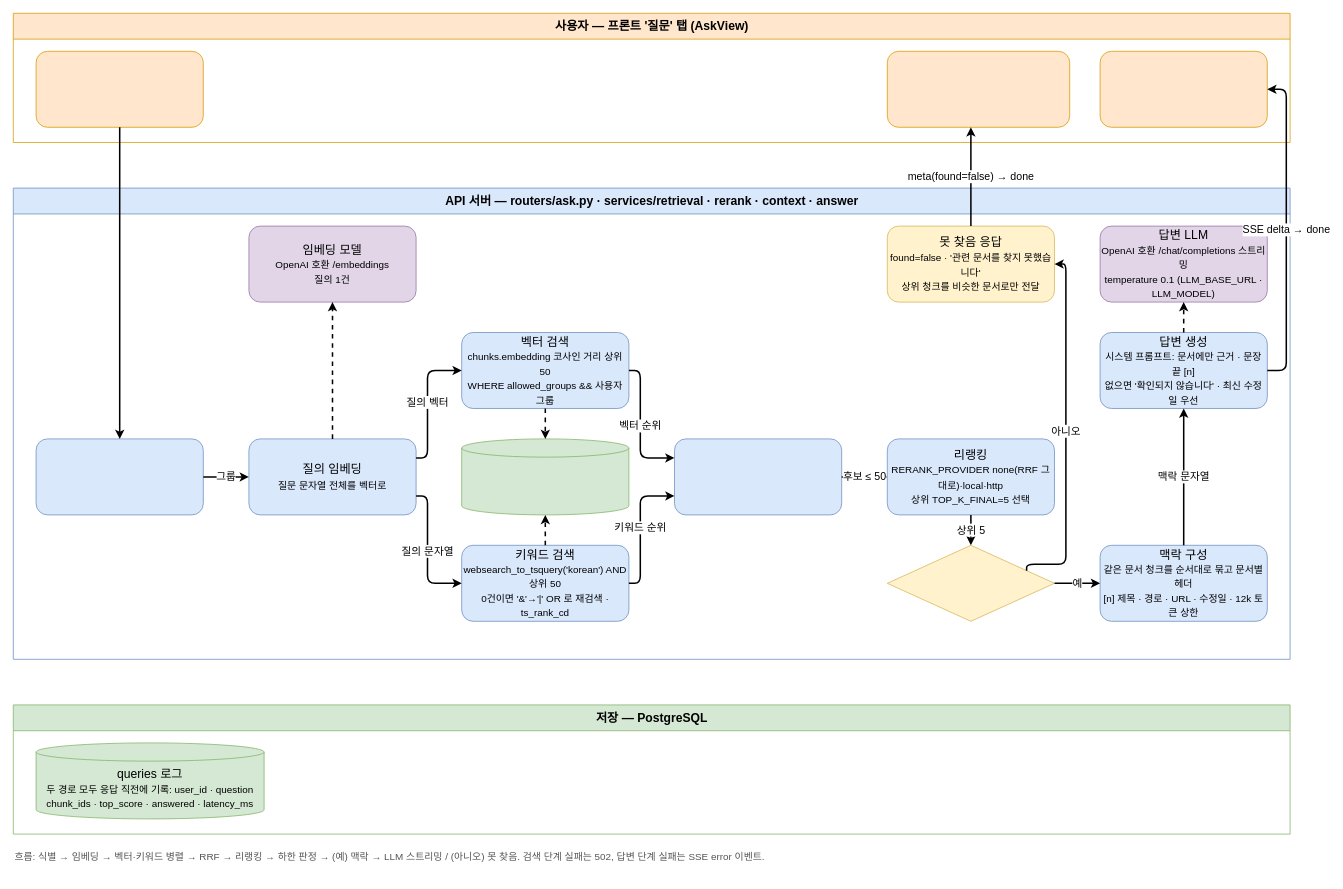
This 1343x889 diagram has some shape labels left out. Here are the shapes that lost their labels. From the top down, the centre of each, then its label:
At point 119,89: "질문 입력 POST /ask?stream=true { question } Enter 전송".
At point 978,89: "출처 (오른쪽 칸) meta 이벤트로 먼저 도착: 제목 · 경로 수정일 · 점수 · 못 찾음이면 '비슷한 문서'".
At point 1183,89: "답변 (왼쪽 칸) delta 조각을 이어 붙여 표시 · [n] 출처 번호 done 에 query_id · 소요 시간".
At point 119,476: "사용자 식별 X-User-Id · X-User-Groups 헤더 개발 중: DEV_USER_GROUPS=* (전체 열람)".
At point 545,476: "chunks ⋈ documents embedding · tsv · allowed_groups".
At point 758,476: "RRF 합산 점수 = Σ 1/(60+순위) · 같은 청크는 합침 점수순 상위 50 후보".
At point 970,583: "1위 점수 ≥ RERANK_MIN_SCORE? (none 이면 항상 예)".
